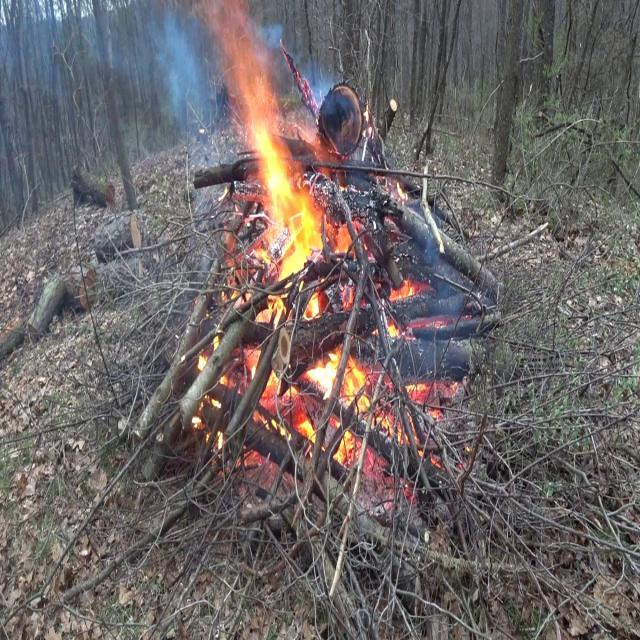Fire: (193, 10, 424, 458)
Smoke: (148, 4, 232, 180)
